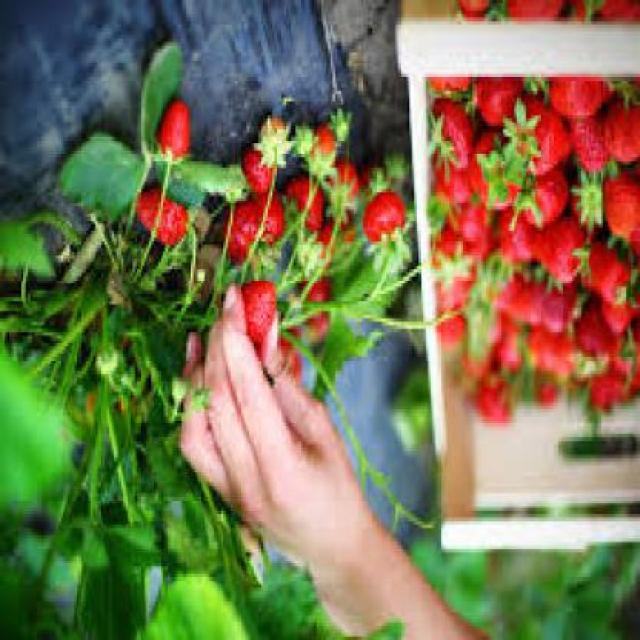BIODEGRADABLE: (0, 231, 134, 638), (472, 552, 637, 638), (137, 577, 306, 638), (130, 298, 179, 504), (54, 133, 140, 224), (137, 574, 252, 638), (132, 507, 232, 570), (218, 191, 282, 287), (498, 98, 565, 185), (315, 322, 379, 406), (517, 217, 589, 291), (334, 254, 406, 326), (138, 46, 179, 172), (440, 248, 508, 318), (355, 192, 408, 280), (465, 129, 517, 217), (154, 165, 240, 217), (392, 361, 426, 468), (508, 168, 563, 234), (132, 186, 186, 252), (279, 172, 321, 252), (428, 104, 472, 178), (588, 248, 638, 312), (456, 310, 496, 384), (600, 172, 638, 248), (356, 155, 402, 213), (470, 81, 516, 136), (523, 336, 575, 384), (324, 157, 358, 228), (154, 98, 188, 168), (235, 287, 272, 350), (603, 106, 637, 172), (572, 315, 610, 374), (570, 122, 610, 178), (568, 168, 600, 238), (547, 84, 602, 122), (474, 378, 512, 430), (240, 144, 274, 199), (433, 232, 465, 290), (496, 322, 526, 381), (256, 119, 286, 175), (294, 287, 328, 336), (538, 290, 572, 339), (305, 126, 332, 185), (433, 164, 467, 210), (450, 202, 484, 248), (498, 224, 531, 270), (500, 3, 562, 25), (612, 332, 637, 385), (596, 312, 638, 342), (328, 213, 352, 265), (508, 290, 540, 328), (584, 3, 638, 25), (279, 332, 301, 385), (521, 374, 554, 408), (426, 80, 469, 102), (493, 273, 515, 312), (587, 382, 611, 416), (326, 112, 349, 146), (291, 126, 314, 160), (454, 3, 488, 25), (438, 316, 460, 350), (607, 381, 638, 405)
